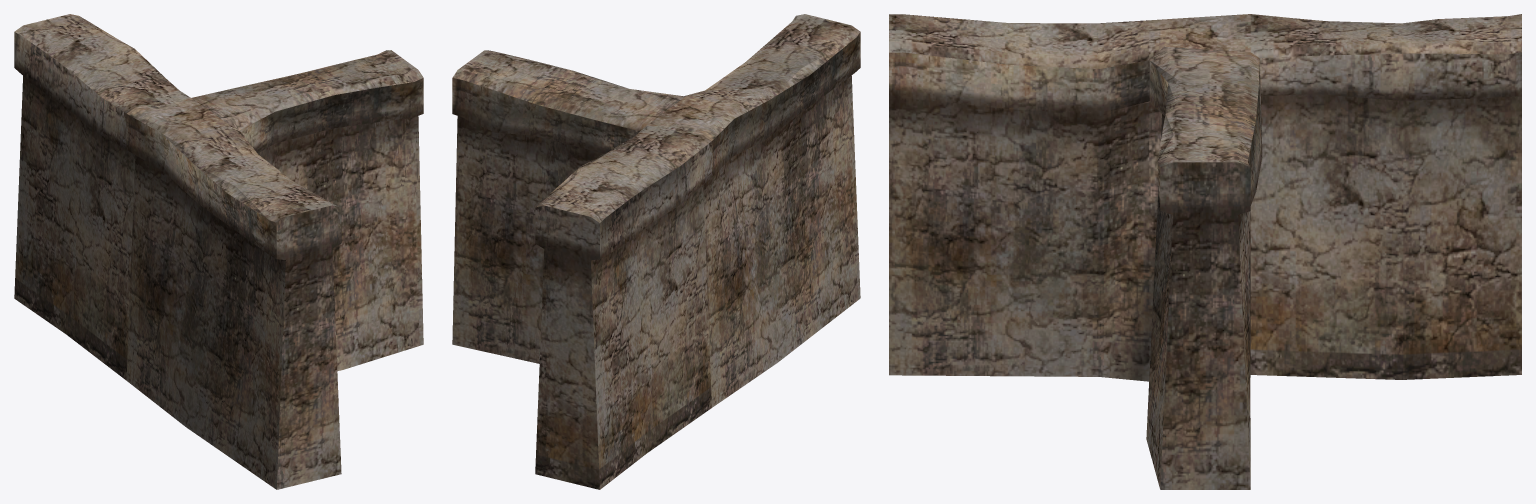
Rendered from MWalA5.glb.
The picture shows the model from 3 angles, left to right: view 1: azimuth 30°, elevation 25°; view 2: azimuth 150°, elevation 25°; view 3: azimuth 270°, elevation 25°; orthographic projection. The views are drawn at different scales.
Visible parts, largest first — view 1: _MWalA5; view 2: _MWalA5; view 3: _MWalA5.
Part boxes in pixels (x1,y1,x2,y2): _MWalA5: [14, 14, 423, 489]; _MWalA5: [452, 14, 860, 489]; _MWalA5: [889, 14, 1521, 489].
Size of the model in its own units: 4.06 by 4.03 by 7.
Materials: 1 (1 with a texture image).
